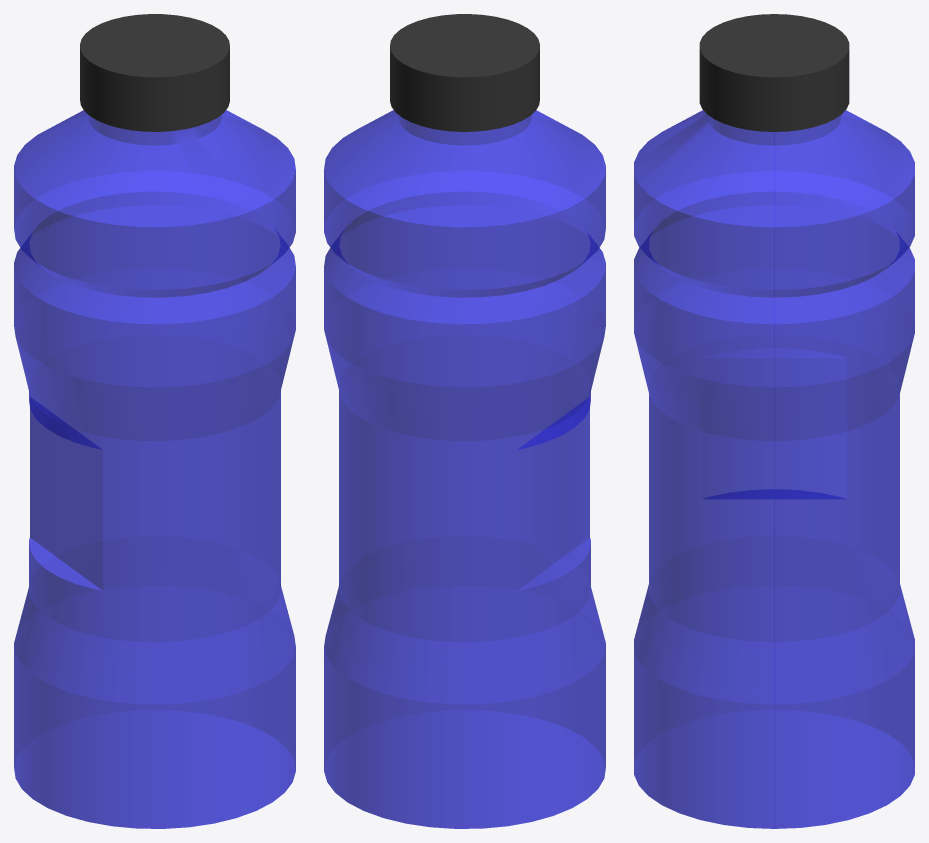
Rendered from water-bottle.fbx.
The picture shows the model from 3 angles, left to right: view 1: azimuth 30°, elevation 25°; view 2: azimuth 150°, elevation 25°; view 3: azimuth 270°, elevation 25°; orthographic projection.
Visible parts, largest first — view 1: Model; view 2: Model; view 3: Model.
Part boxes in pixels (x1,y1,x2,y2): Model: (14,14,295,828); Model: (324,14,605,828); Model: (634,14,914,828).
Size of the model in its own units: 119 by 338 by 119.
